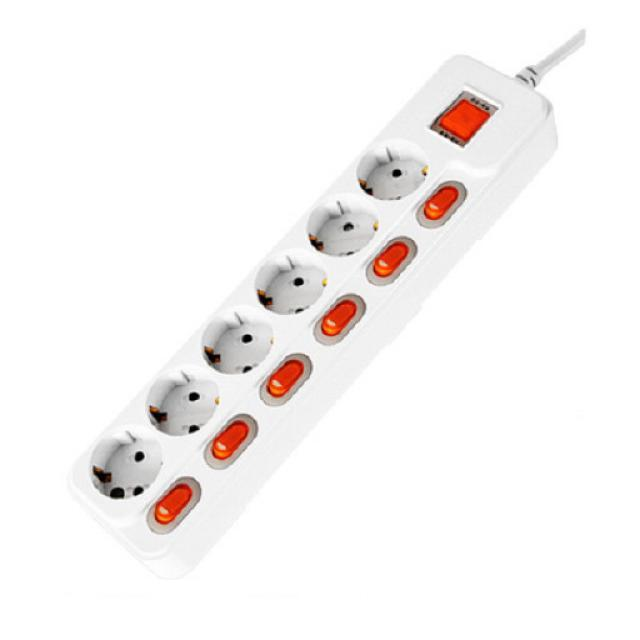typeb: (43, 31, 580, 573)
